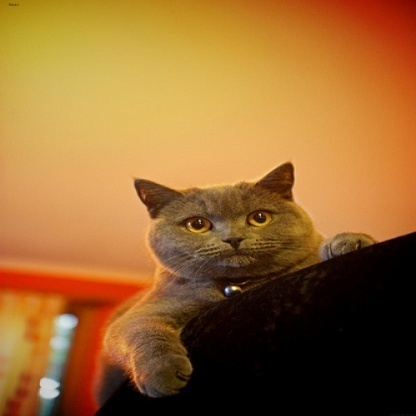british_shorthair: (105, 162, 377, 396)
